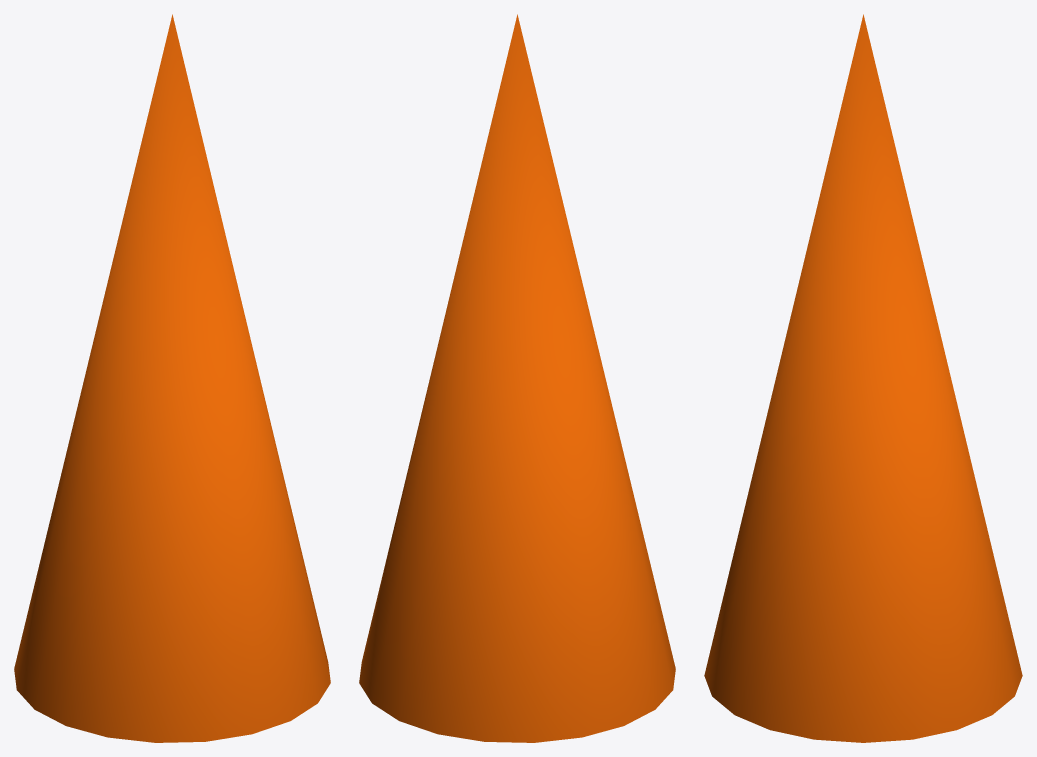
Rendered from Obstacles.fbx.
The picture shows the model from 3 angles, left to right: view 1: azimuth 30°, elevation 25°; view 2: azimuth 150°, elevation 25°; view 3: azimuth 270°, elevation 25°; orthographic projection.
Parts seen in each view (by area): view 1: pCone1; view 2: pCone1; view 3: pCone1.
Boxes of the visible parts, x1,y1,x2,y2 form: pCone1: (14,14,330,742); pCone1: (359,14,675,742); pCone1: (704,14,1022,742).
Size of the model in its own units: 5.07 by 11.62 by 5.07.
